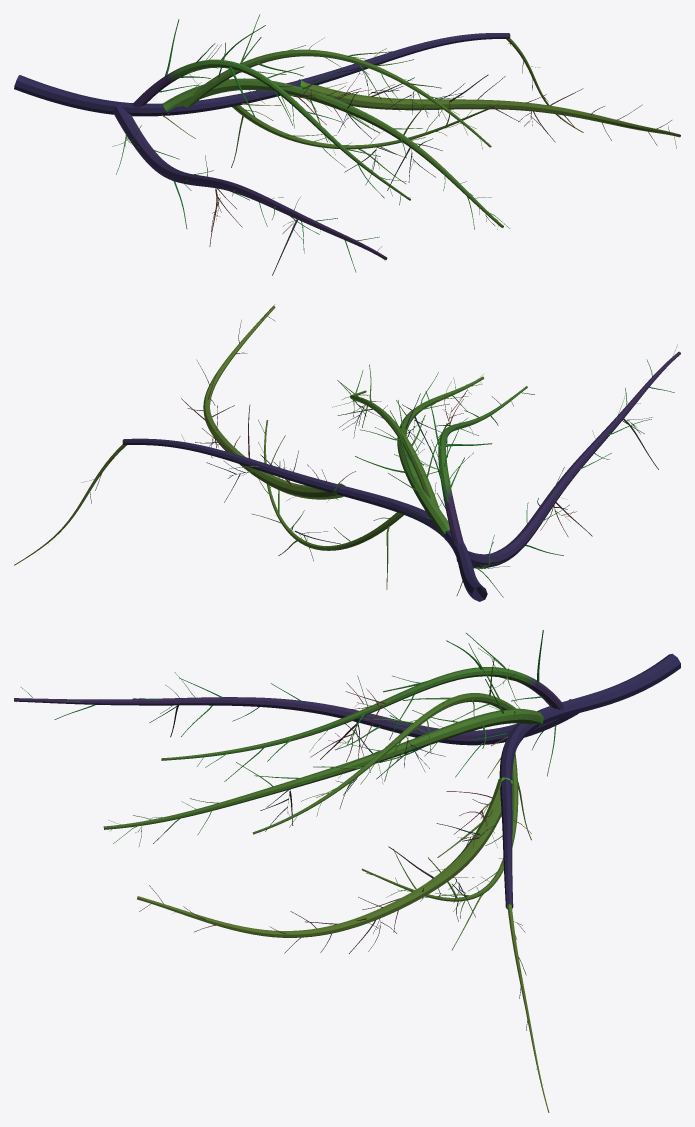
File: rm_side_0.15.obj
3 renders of one model, top to bottom at view 1: azimuth 30°, elevation 25°; view 2: azimuth 150°, elevation 25°; view 3: azimuth 270°, elevation 25°, orthographic. The views are drawn at different scales.
Size of the model in its own units: 2.1 by 0.8857 by 2.01.
